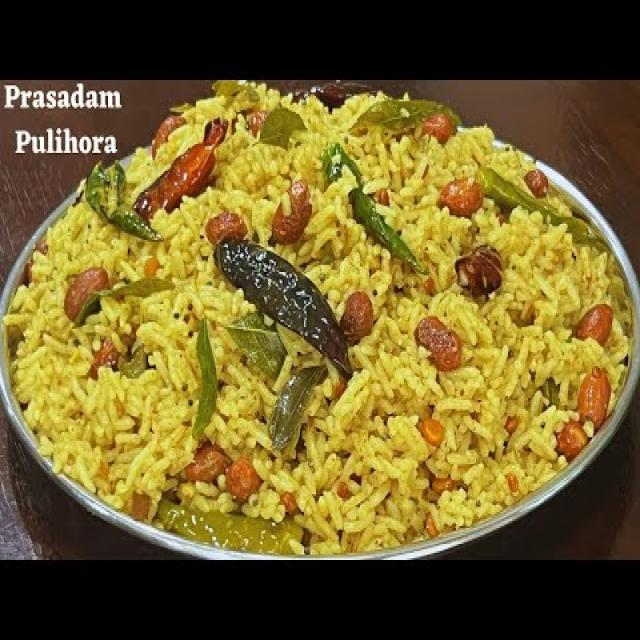puliyogare: (0, 74, 640, 566)
